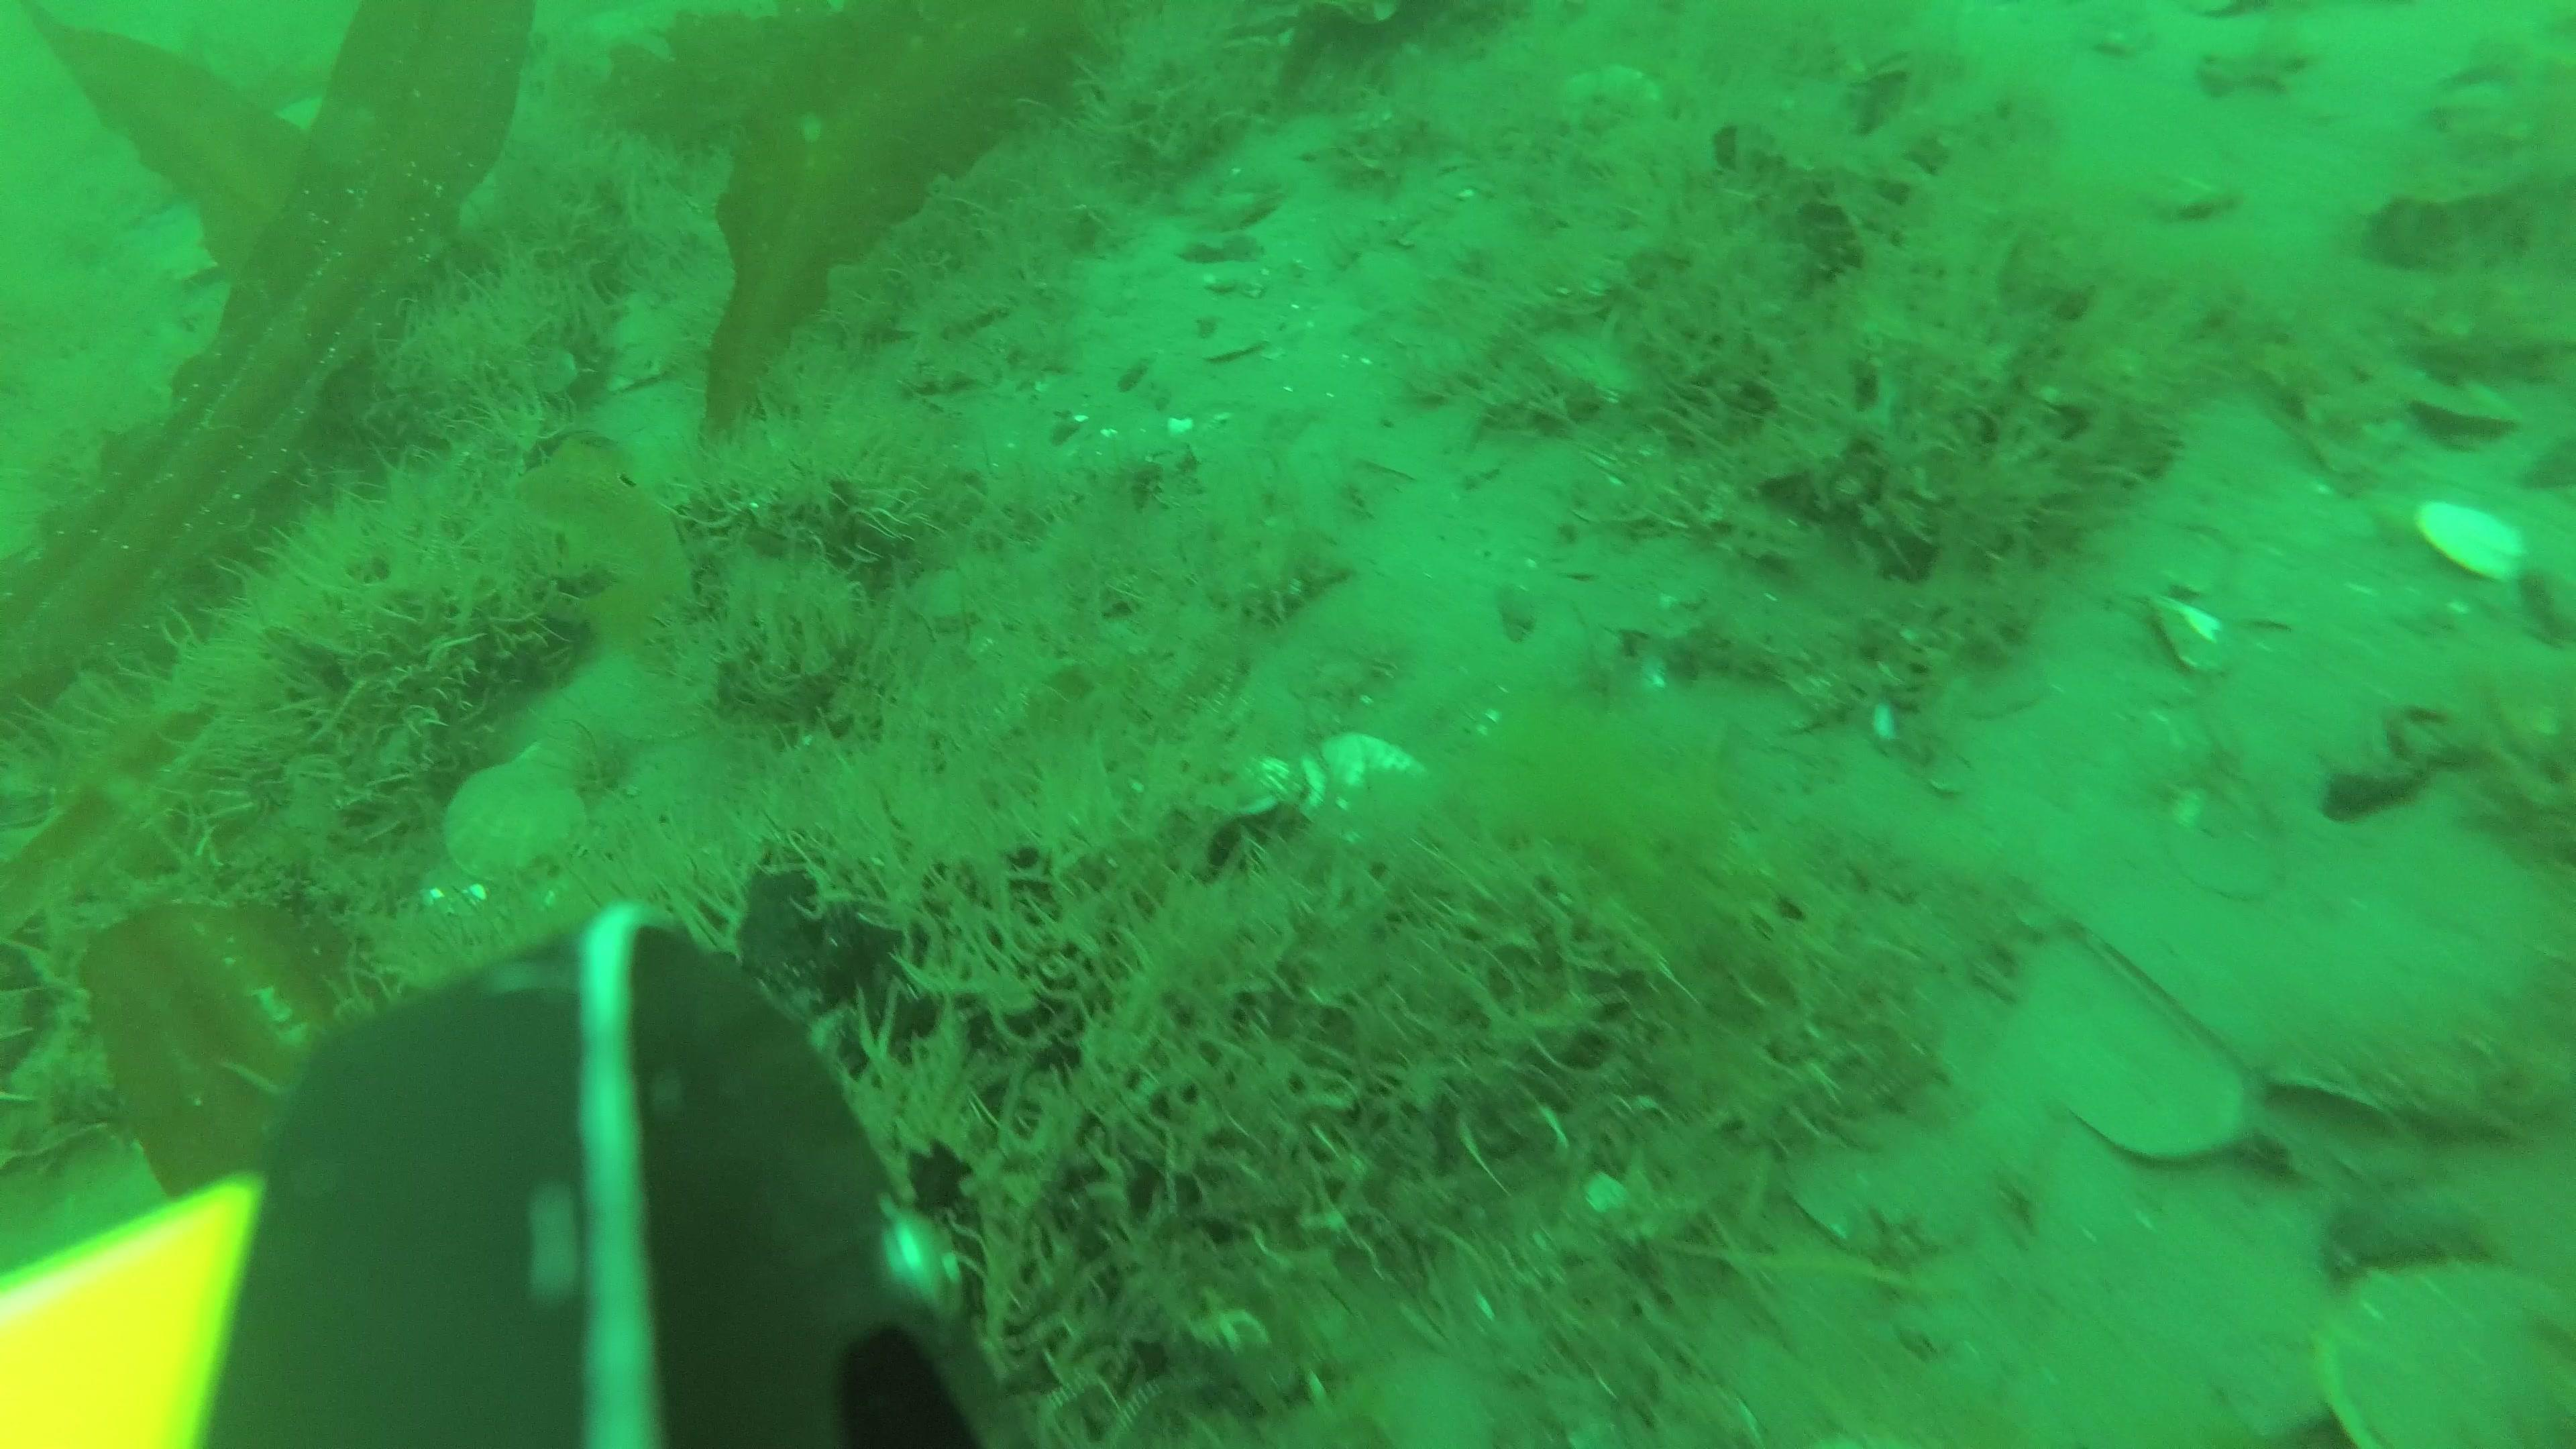scallop: (2328, 1254, 2576, 1449), (449, 743, 593, 872), (1300, 734, 1437, 835), (2413, 492, 2532, 586)
